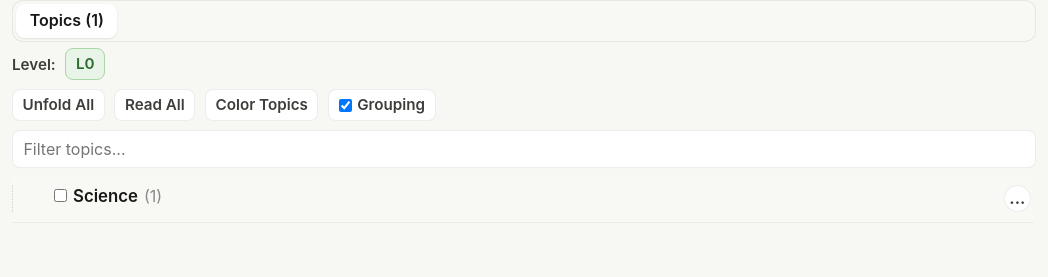
Test: TopicList general rendering › closes a manually opened menu after using an action
Click the button named "Show actions for Science".
click(1017, 198)  # box [1004,185,1031,212]
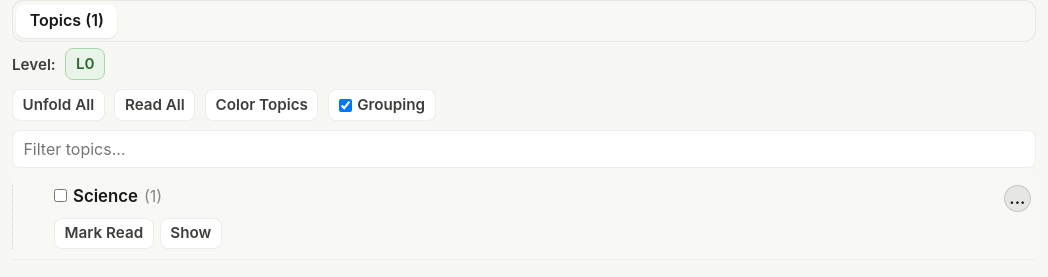
Click the button "Mark Read".
click(104, 233)  # box [54,218,154,249]
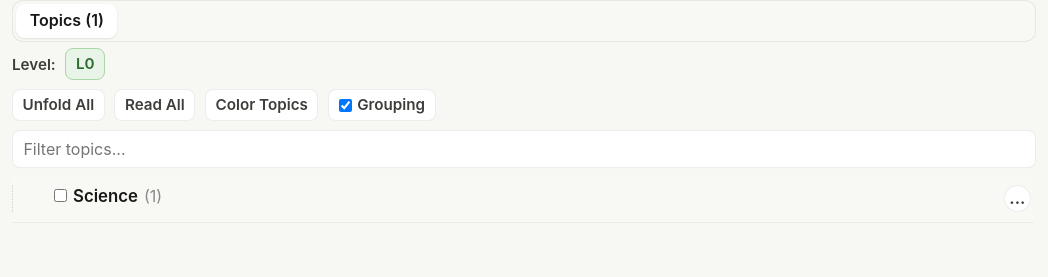
Now the button named "Show actions for Science" is collapsed, box [1004,185,1031,212]
